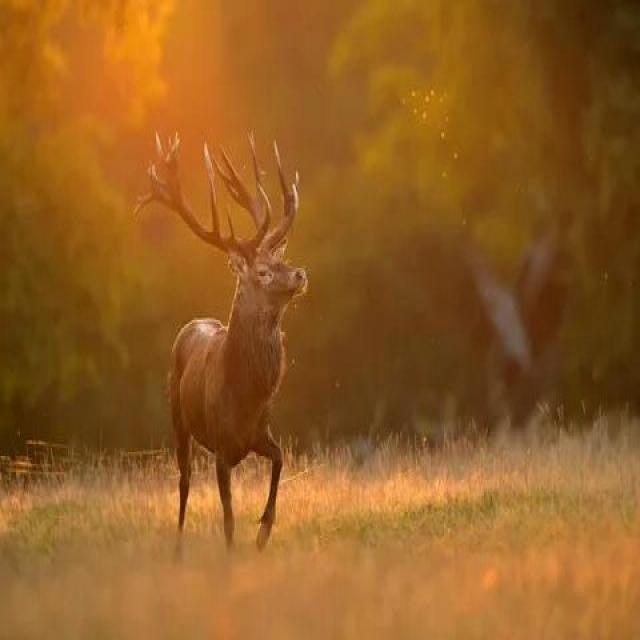deer: (129, 148, 363, 536)
